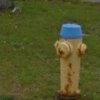Hydrant: (48, 14, 89, 97)
